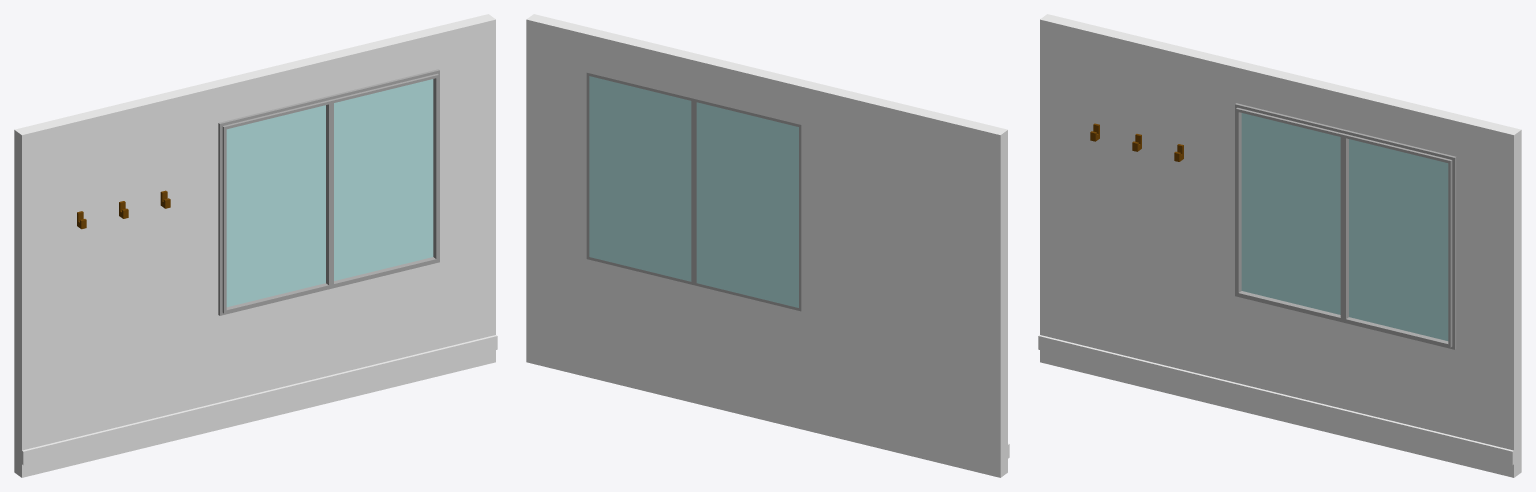
The model's file is wall51.obj.
3 renders of one model, left to right at view 1: azimuth 30°, elevation 25°; view 2: azimuth 150°, elevation 25°; view 3: azimuth 330°, elevation 25°, orthographic.
Bounding box in the file's own units: 18.1 × 12.5 × 0.8.
Materials: 1 (1 with a texture image).
